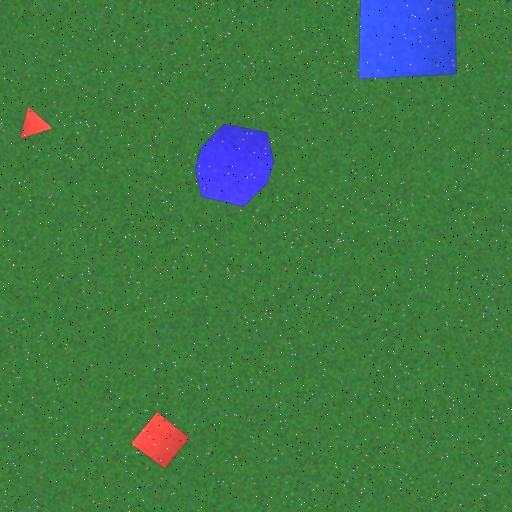BLUE_SQUARE: (358, 0, 458, 80)
RED_SQUARE: (130, 411, 190, 470)
